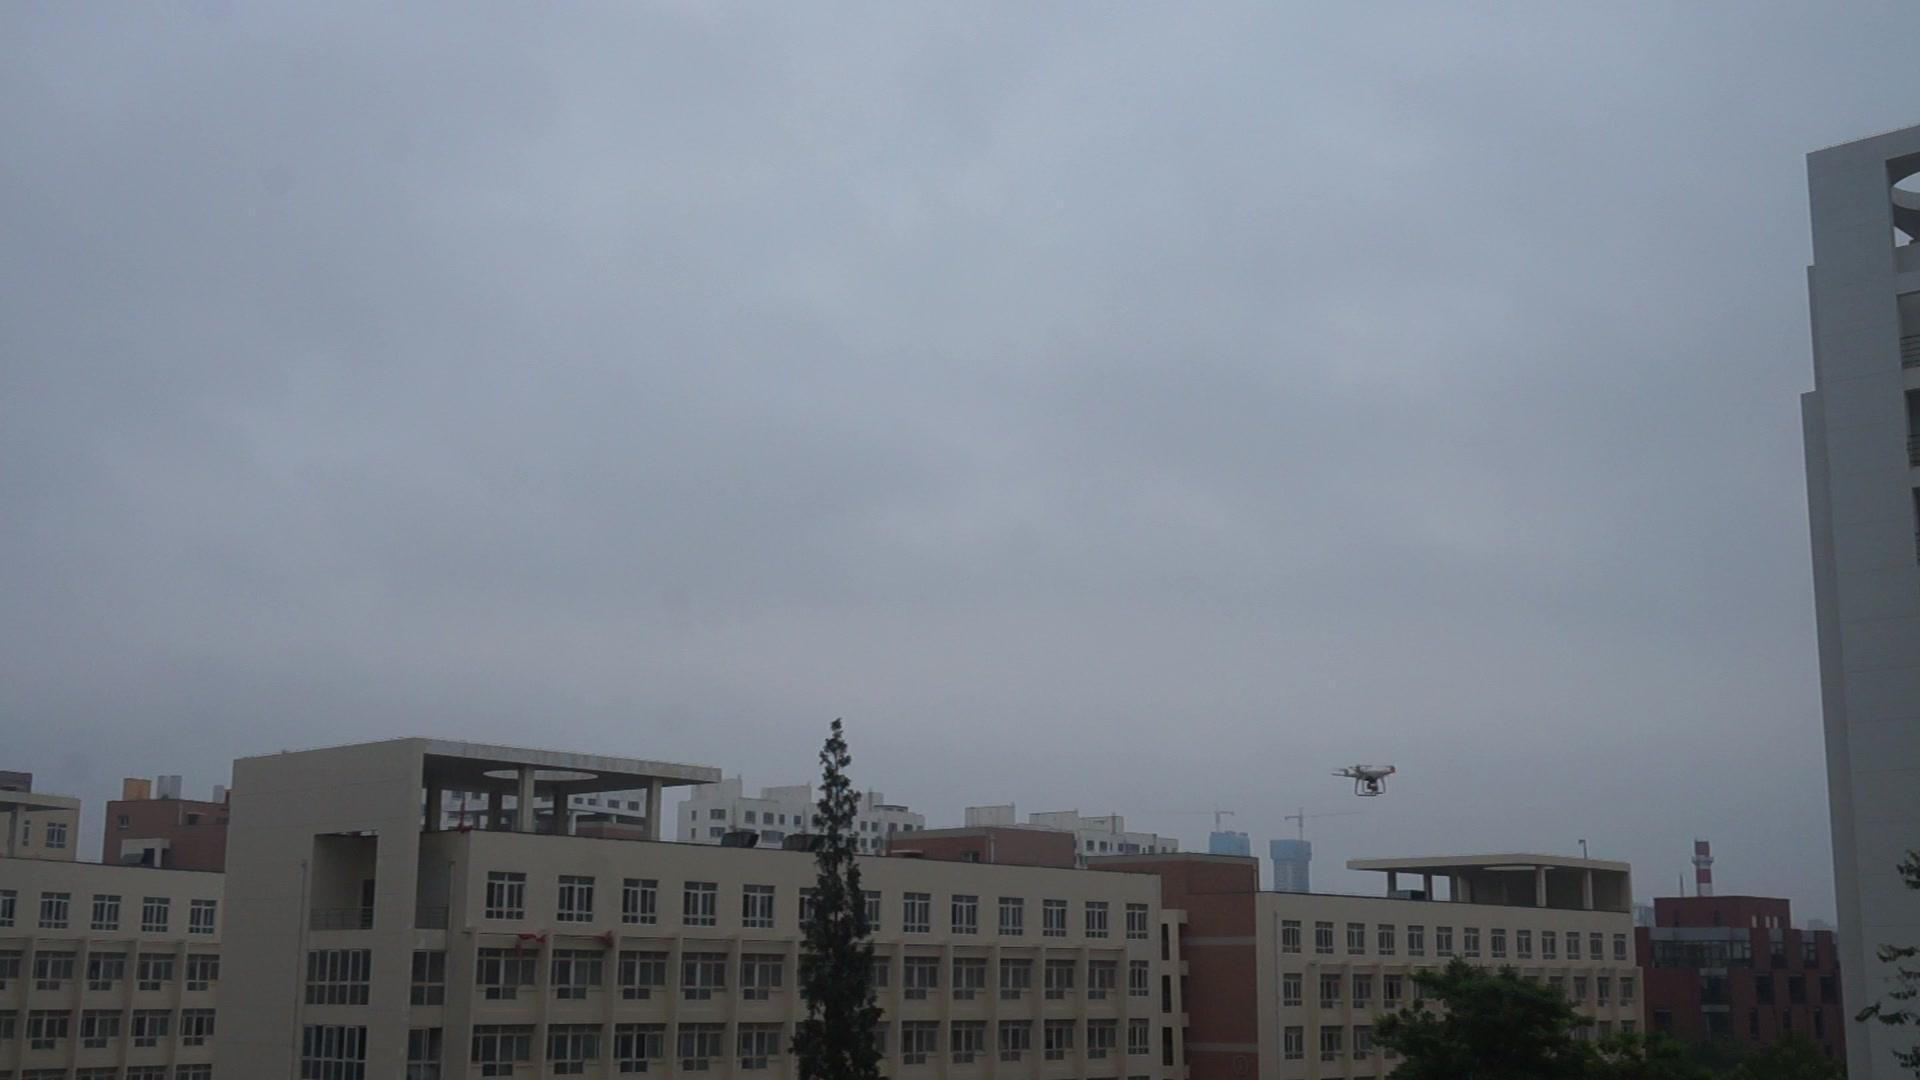UAV: (1332, 765, 1396, 796)
